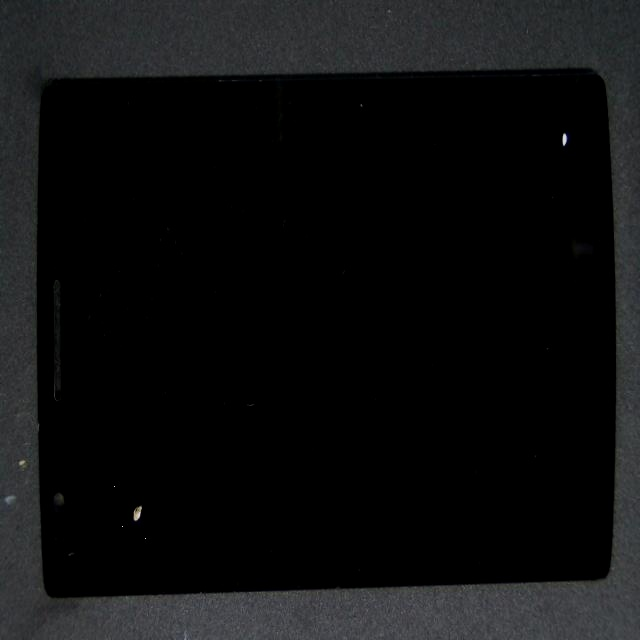stain: (45, 233, 182, 640), (288, 32, 640, 185)
